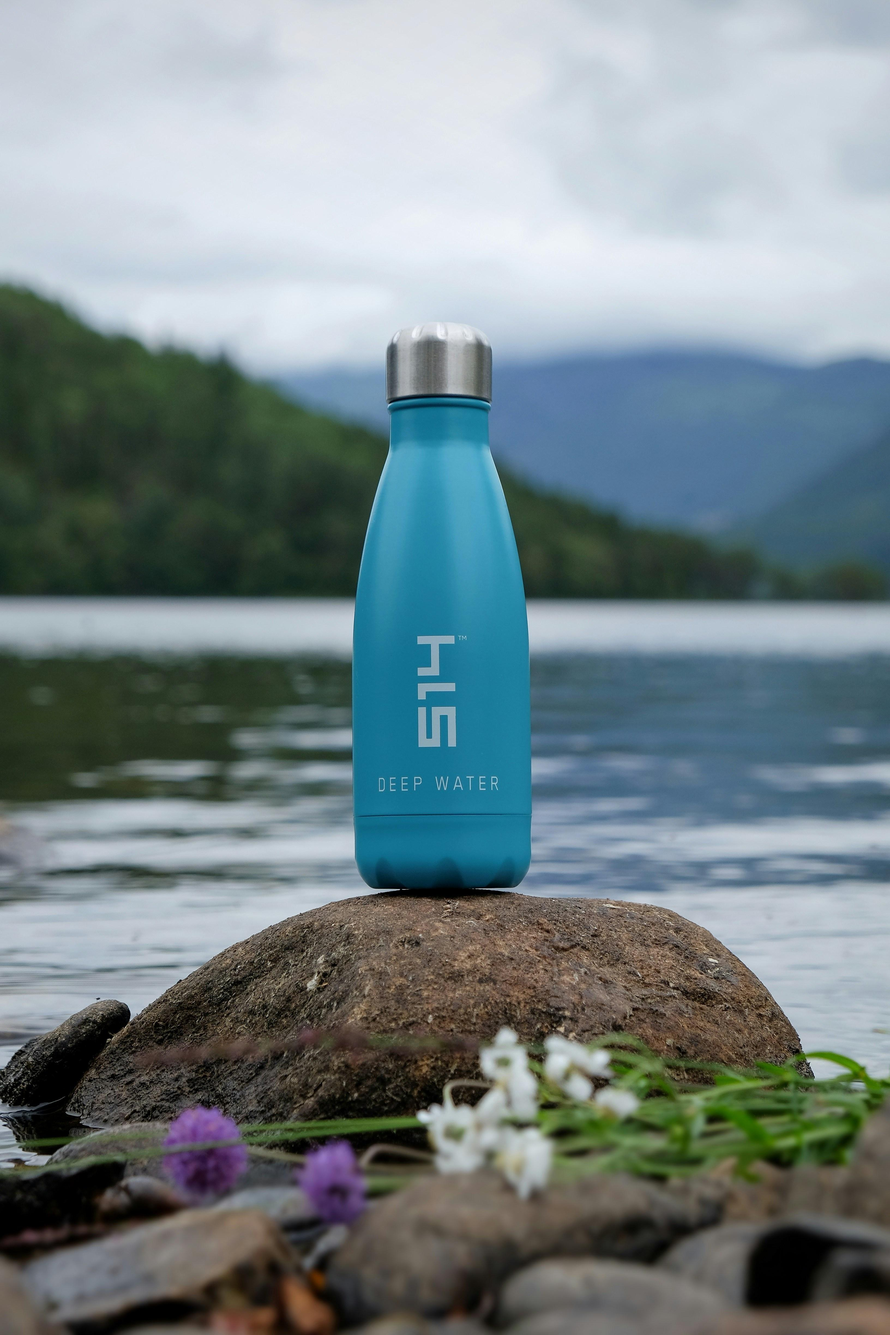Bottle-Detection: (281, 262, 619, 960)
